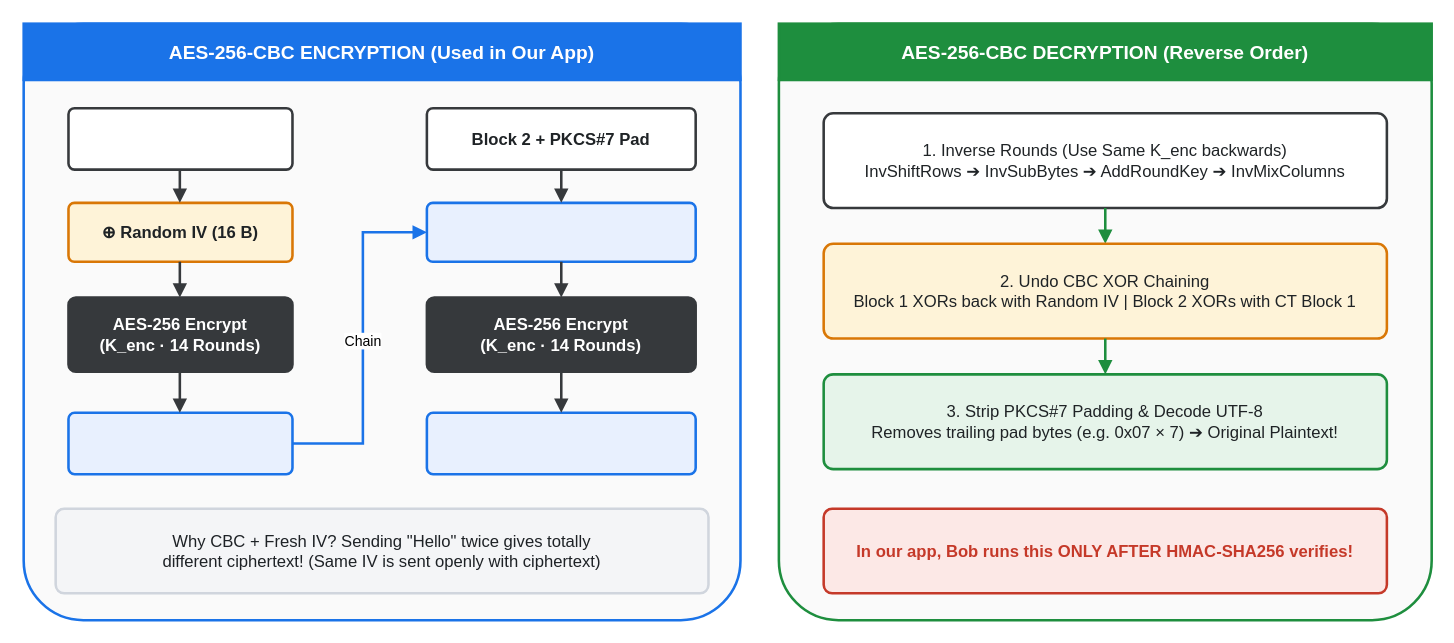
This 1454x643 diagram has some shape labels left out. Each missing label, with the box of its shape:
Block 1 (16 B Data): (67, 106, 293, 170)
Ciphertext Block 1: (67, 411, 293, 475)
Ciphertext Block 2: (425, 411, 696, 475)
⊕ Ciphertext Block 1: (425, 201, 696, 262)
